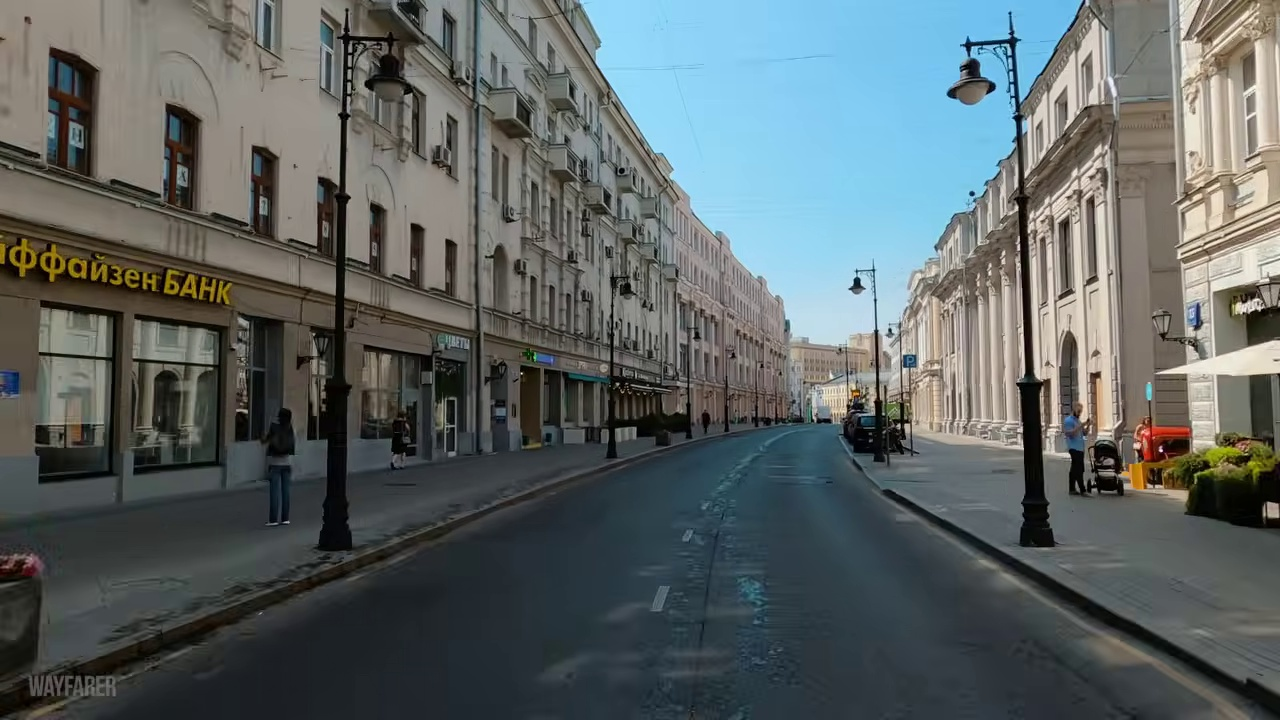apagada: (943, 69, 991, 107), (368, 65, 404, 107), (846, 276, 870, 301)
